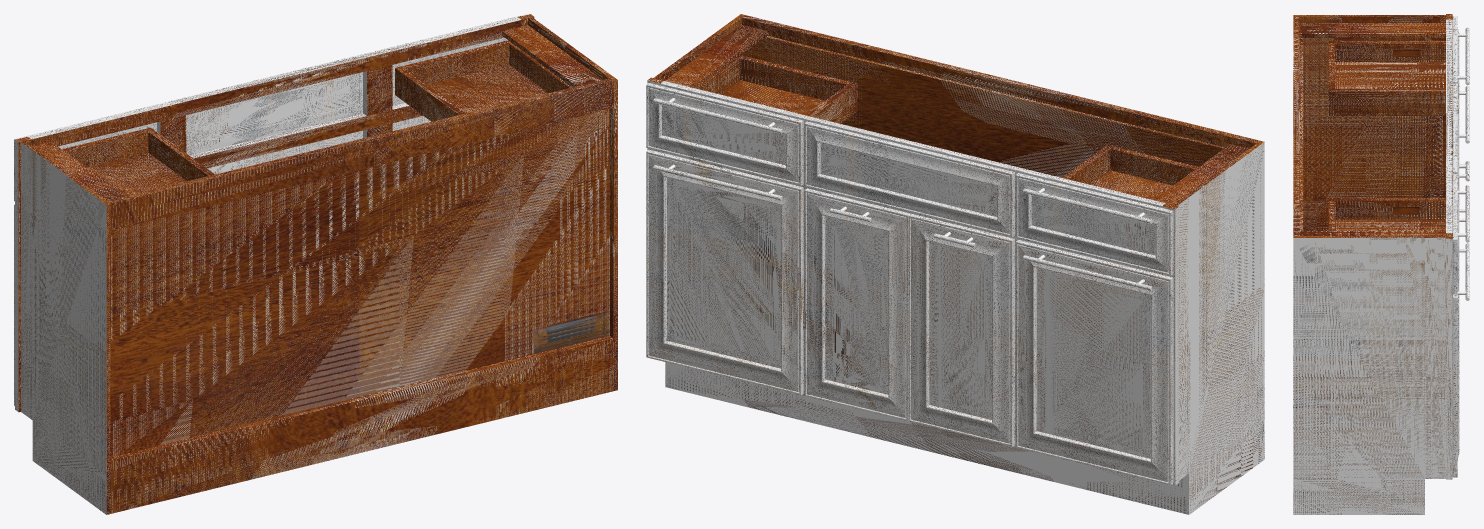
3 renders of one model, left to right at view 1: azimuth 30°, elevation 25°; view 2: azimuth 150°, elevation 25°; view 3: azimuth 270°, elevation 25°, orthographic. The views are drawn at different scales.
Visible parts, largest first — view 1: mesh4_mesh4-geometry, mesh13_mesh13-geometry, mesh7_mesh7-geometry, mesh3_mesh3-geometry, mesh5_mesh5-geometry, mesh23_mesh23-geometry, mesh30_mesh30-geometry, mesh20_mesh20-geometry, mesh21_mesh21-geometry, mesh6_mesh6-geometry, mesh8_mesh8-geometry, mesh10_mesh10-geometry (+8 smaller); view 2: mesh4_mesh4-geometry, mesh42_mesh42-geometry, mesh55_mesh55-geometry, mesh7_mesh7-geometry, mesh14_mesh14-geometry, mesh29_mesh29-geometry, mesh60_mesh60-geometry, mesh44_mesh44-geometry, mesh59_mesh59-geometry, mesh45_mesh45-geometry, mesh3_mesh3-geometry, mesh32_mesh32-geometry (+32 smaller); view 3: mesh10_mesh10-geometry, mesh7_mesh7-geometry, mesh20_mesh20-geometry, mesh9_mesh9-geometry, mesh11_mesh11-geometry, mesh23_mesh23-geometry, mesh16_mesh16-geometry, mesh6_mesh6-geometry, mesh2_mesh2-geometry, mesh3_mesh3-geometry, mesh5_mesh5-geometry, mesh31_mesh31-geometry (+11 smaller).
Part boxes in pixels (box(x1,y1,x2,y2)): mesh4_mesh4-geometry: box(110, 109, 609, 457); mesh13_mesh13-geometry: box(110, 335, 613, 513); mesh7_mesh7-geometry: box(32, 149, 110, 474); mesh3_mesh3-geometry: box(107, 78, 613, 230); mesh5_mesh5-geometry: box(28, 17, 521, 168); mesh23_mesh23-geometry: box(87, 64, 547, 196); mesh30_mesh30-geometry: box(60, 40, 502, 148); mesh20_mesh20-geometry: box(145, 40, 571, 181); mesh21_mesh21-geometry: box(62, 41, 509, 167); mesh6_mesh6-geometry: box(21, 141, 36, 419); mesh8_mesh8-geometry: box(32, 421, 110, 514); mesh10_mesh10-geometry: box(539, 26, 617, 350); mesh4_mesh4-geometry: box(742, 36, 1224, 177); mesh42_mesh42-geometry: box(676, 186, 880, 384); mesh55_mesh55-geometry: box(938, 251, 1142, 448); mesh7_mesh7-geometry: box(1185, 141, 1264, 473); mesh14_mesh14-geometry: box(669, 363, 1184, 513); mesh29_mesh29-geometry: box(674, 108, 1144, 250); mesh60_mesh60-geometry: box(984, 262, 1173, 456); mesh44_mesh44-geometry: box(646, 180, 834, 373); mesh59_mesh59-geometry: box(908, 244, 1045, 424); mesh45_mesh45-geometry: box(773, 210, 908, 392); mesh3_mesh3-geometry: box(741, 15, 1259, 148); mesh32_mesh32-geometry: box(672, 136, 1144, 268); mesh10_mesh10-geometry: box(1293, 236, 1424, 478); mesh7_mesh7-geometry: box(1293, 15, 1424, 230); mesh20_mesh20-geometry: box(1328, 40, 1445, 219); mesh9_mesh9-geometry: box(1425, 236, 1445, 478); mesh11_mesh11-geometry: box(1293, 479, 1424, 514); mesh23_mesh23-geometry: box(1335, 62, 1445, 230); mesh16_mesh16-geometry: box(1300, 23, 1445, 37); mesh6_mesh6-geometry: box(1425, 15, 1445, 197); mesh2_mesh2-geometry: box(1446, 14, 1452, 479); mesh3_mesh3-geometry: box(1293, 16, 1299, 235); mesh5_mesh5-geometry: box(1446, 19, 1452, 232); mesh31_mesh31-geometry: box(1452, 27, 1459, 239).
Bounding box in the file's own units: 0.8331 × 0.479 × 0.2765.
